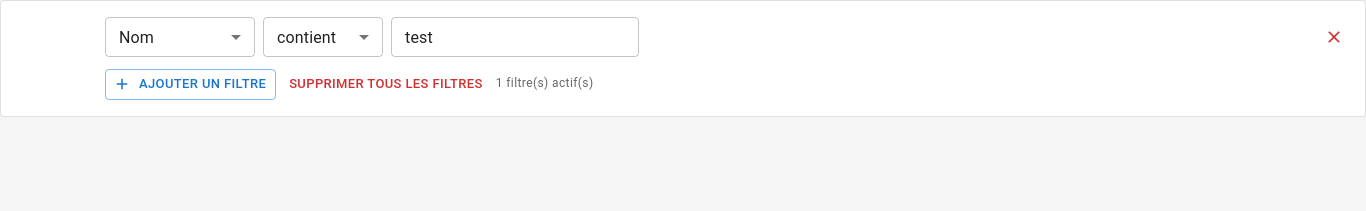
it: CustomFilterPanel › CustomFilterPanel component › filters out non-filterable columns
Press the mouse on the dropdown labelled "Nom" at (136, 37), box [119,28,154,46]
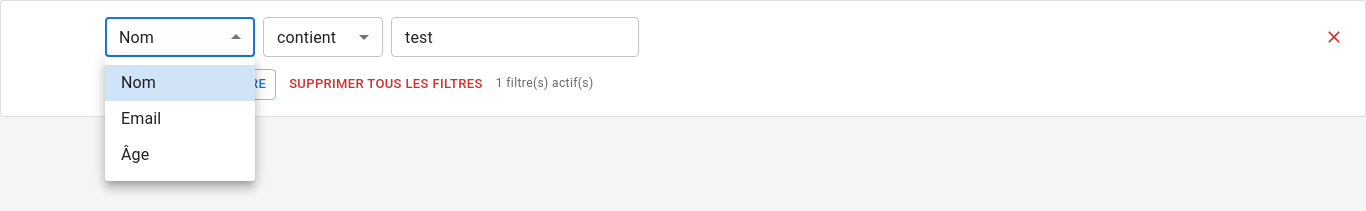
Result: the option "Nom" is shown at [105,65,255,101]
Result: the option "Email" is shown at [121,109,161,128]
